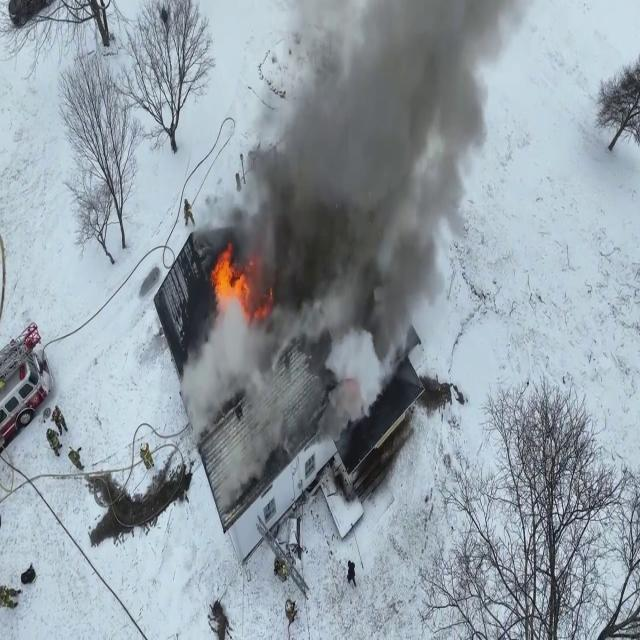Fire: (208, 243, 254, 322)
Smoke: (204, 2, 517, 372)
